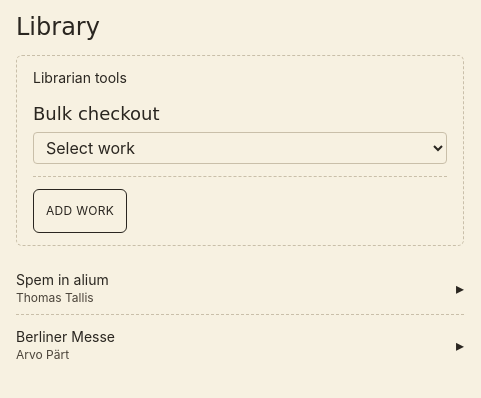
Scenario: #271 — create-edition control placement on /library (integration) › a work whose editions are still LOADING does not offer it
Expected: the list item with test id "library-work-work-1" is shown, x1=16 y1=262 x2=464 y2=315
Expected: the list item with test id "library-work-work-2" is shown, x1=16 y1=319 x2=464 y2=371
Click the button "Berliner Messe Arvo Pärt ▸": point(65, 336) x1=16 y1=327 x2=464 y2=363
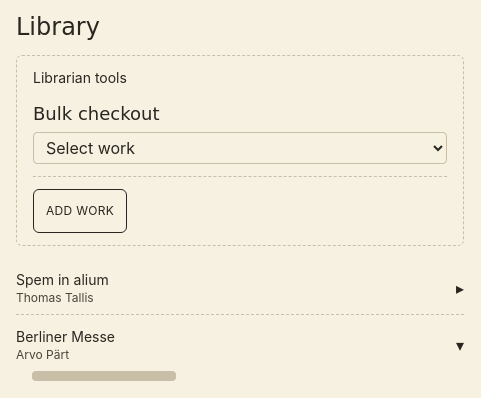
Expected: the element with id "library-editions-work-2" is shown, x1=32 y1=371 x2=176 y2=381
